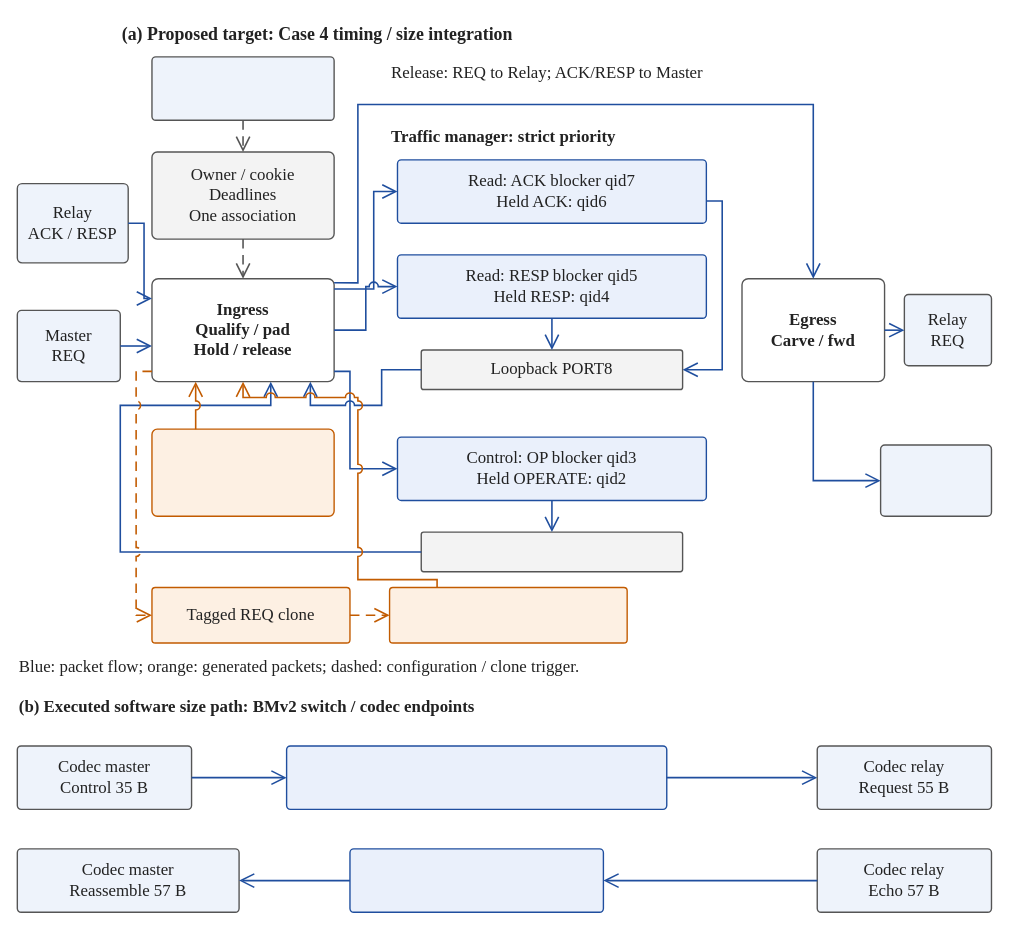
Image size: 1010x930. Some labels were removed from this diagram. The centre of each missing label's shape, as x and y in pixels:
"Configuration D_A / gap / J / H" belongs at (x=242, y=88).
"Loopback PORT10" belongs at (x=551, y=551).
"Master ACK / RESP" belongs at (x=935, y=480).
"Packet generator Seeds via ingress" belongs at (x=507, y=614).
"Padding + TCP map SELECT / OPERATE 35 → 55" belongs at (x=476, y=777).
"Pulse: requested PORT68: 100 us H: 30 ms" belongs at (x=242, y=472).
"Response carving 57 → [28, 29]" belongs at (x=476, y=880).
